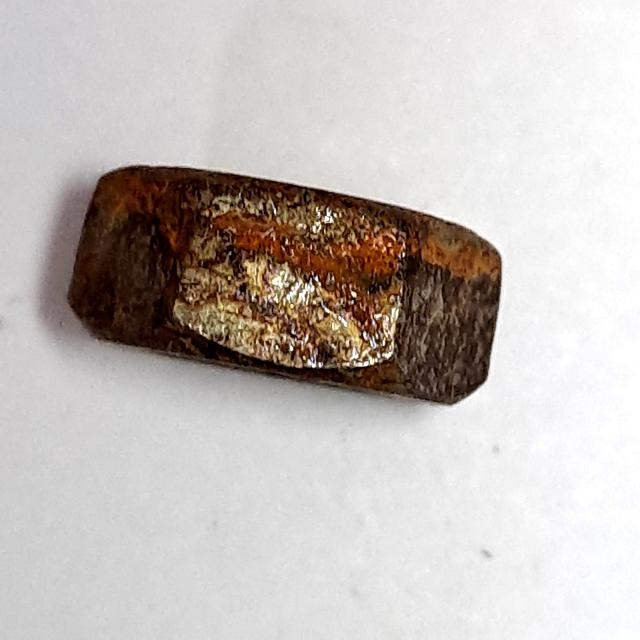Side_Rust: (55, 137, 517, 423)
